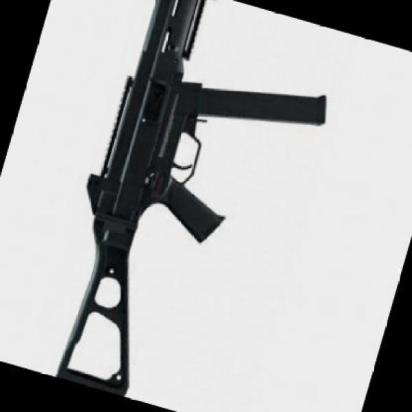Gun: (6, 0, 356, 412)
